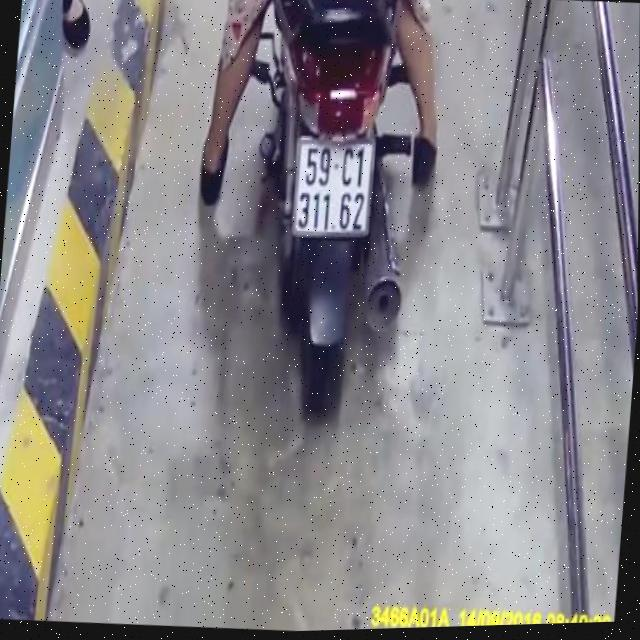motorcycle: (221, 0, 434, 429)
plate: (285, 131, 381, 240)
